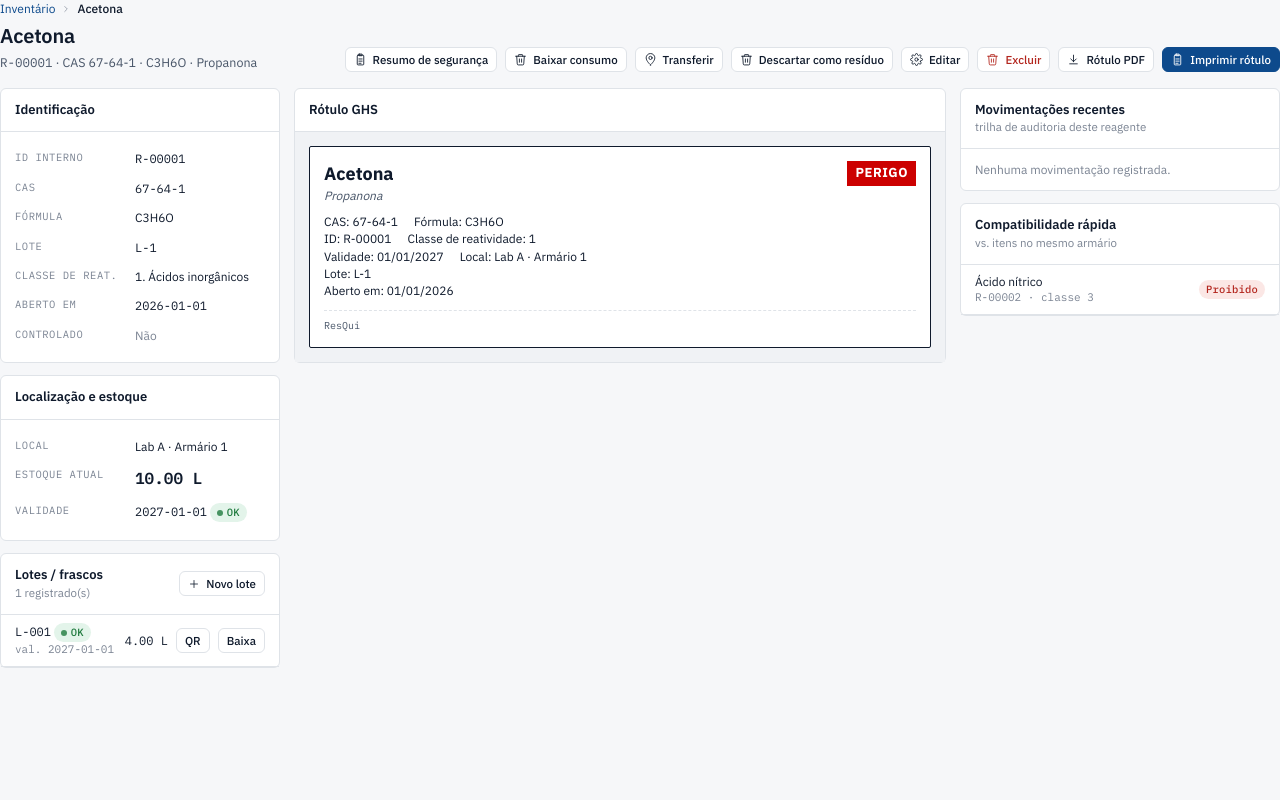
Test: DetalheScreen — confirmações em modal › excluir abre um modal e só apaga depois de confirmado nele
The width and height of the screenshot is (1280, 800).
Later steps or results of the test are not shown.
What coordinates should you click on to do the following:
click the button "Excluir"
I would click on:
 (1014, 59)
Its box is [977, 46, 1050, 72].
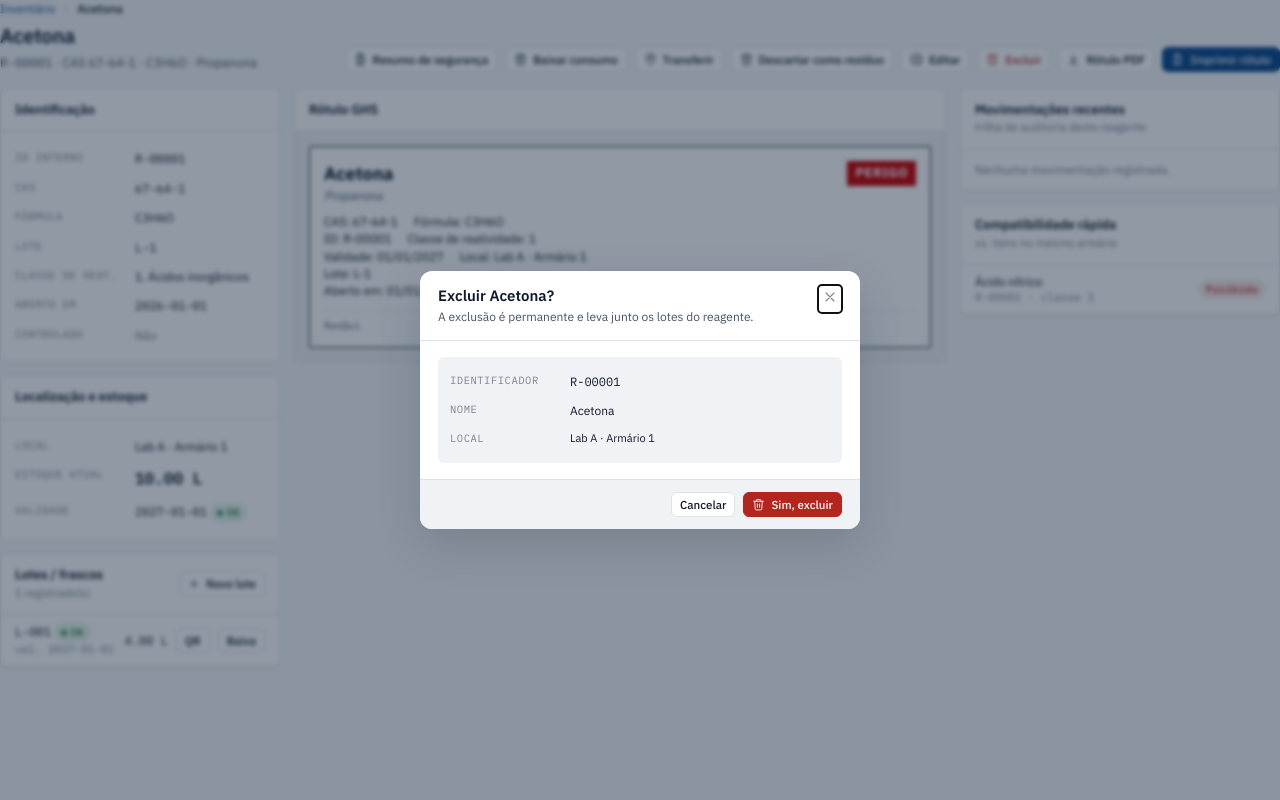
Result: the dialog "Excluir Acetona?" is shown at [420, 271, 860, 530]
